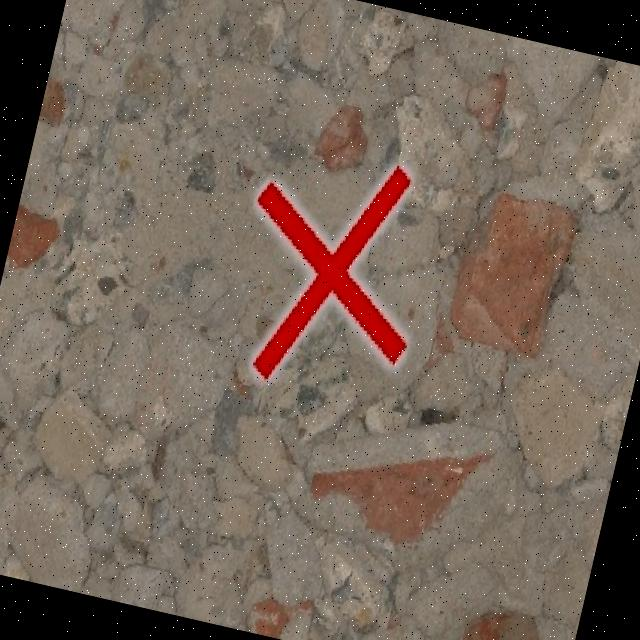x_marker: (218, 137, 442, 406)
